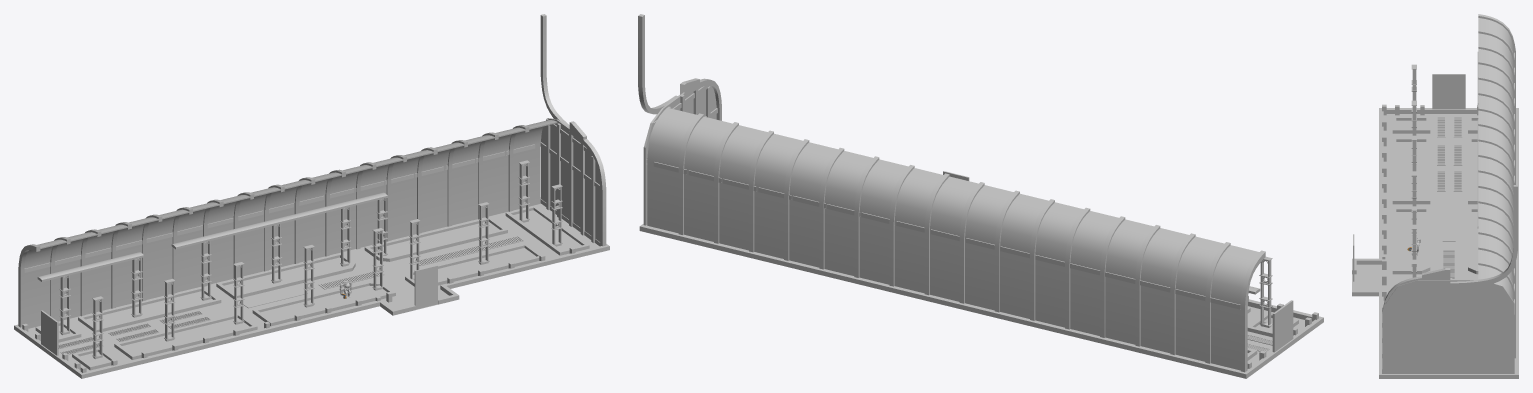
Rendered from laba_test_3.FBX.
3 views of the same model, side by side, from view 1: azimuth 30°, elevation 25°; view 2: azimuth 150°, elevation 25°; view 3: azimuth 270°, elevation 25° (orthographic). The views are drawn at different scales.
Parts seen in each view (by area): view 1: Object052, Object003, Line003, Object005, Object001, Object056, Object006, Object004, Object054, Object053, Object060, Object058 (+15 smaller); view 2: Object052, Line003, Object001, Object056, Object034, Object058, Object029, Object053, Object006; view 3: Object056, Object052, Object003, Object005, Object006, Line003, Object001, Object034, Object058, Object053, Line004, Object007 (+13 smaller).
Part boxes in pixels (x1=…): Object052: x1=24, y1=120, x2=557, y2=328; Object003: x1=35, y1=205, x2=589, y2=370; Line003: x1=18, y1=125, x2=529, y2=327; Object005: x1=29, y1=204, x2=599, y2=371; Object001: x1=14, y1=197, x2=609, y2=378; Object056: x1=541, y1=118, x2=600, y2=241; Object006: x1=28, y1=205, x2=588, y2=369; Object004: x1=37, y1=192, x2=387, y2=281; Object054: x1=546, y1=123, x2=595, y2=243; Object053: x1=569, y1=121, x2=606, y2=246; Object060: x1=414, y1=265, x2=437, y2=309; Object058: x1=540, y1=14, x2=569, y2=127; Object052: x1=647, y1=107, x2=1259, y2=370; Line003: x1=678, y1=113, x2=1265, y2=372; Object001: x1=639, y1=224, x2=1323, y2=378; Object056: x1=643, y1=86, x2=716, y2=225; Object034: x1=1272, y1=300, x2=1293, y2=352; Object058: x1=638, y1=14, x2=677, y2=114; Object029: x1=1259, y1=256, x2=1272, y2=327; Object053: x1=680, y1=78, x2=721, y2=120; Object006: x1=1247, y1=309, x2=1304, y2=365; Object056: x1=1385, y1=279, x2=1514, y2=373; Object052: x1=1478, y1=18, x2=1513, y2=301; Object003: x1=1392, y1=116, x2=1478, y2=286; Object005: x1=1383, y1=114, x2=1478, y2=242; Object006: x1=1352, y1=114, x2=1478, y2=303; Line003: x1=1478, y1=14, x2=1515, y2=358; Object001: x1=1352, y1=108, x2=1518, y2=378; Object034: x1=1432, y1=74, x2=1465, y2=109; Object058: x1=1450, y1=185, x2=1517, y2=294; Object053: x1=1382, y1=268, x2=1450, y2=373; Line004: x1=1382, y1=104, x2=1386, y2=373; Object007: x1=1442, y1=211, x2=1455, y2=241.
Bounding box in the file's own units: 74.35 × 25.09 × 19.57.
